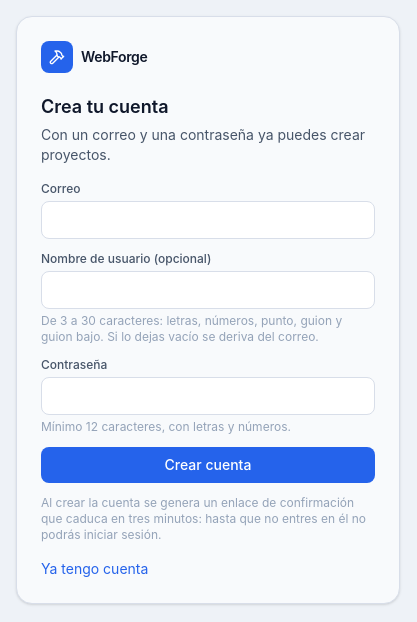
Test: RegisterPage › crea la cuenta, no abre sesión y pide verificar el correo
Expected: the password field labelled "Contraseña" is shown, [41,377,375,415]
Type "ana@dominio.dev" into the field labelled "Correo" at (208,220), box [41,201,375,239]
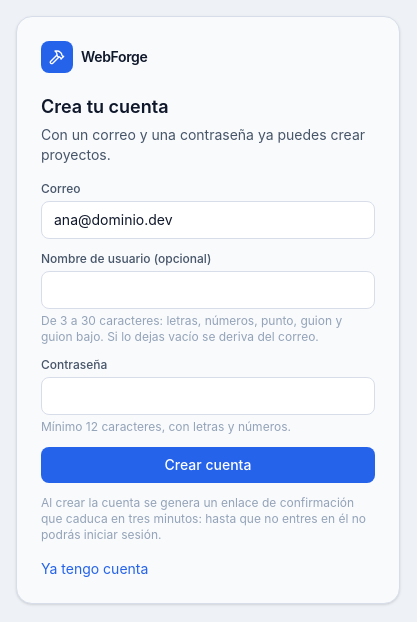
Type "S3creta-fuerte" into the password field labelled "Contraseña" at (208,396), box [41,377,375,415]
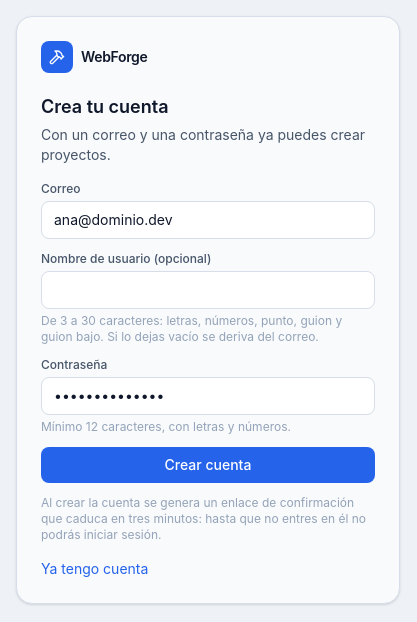
Submit the form named "Crea tu cuenta", box [41,181,375,543]
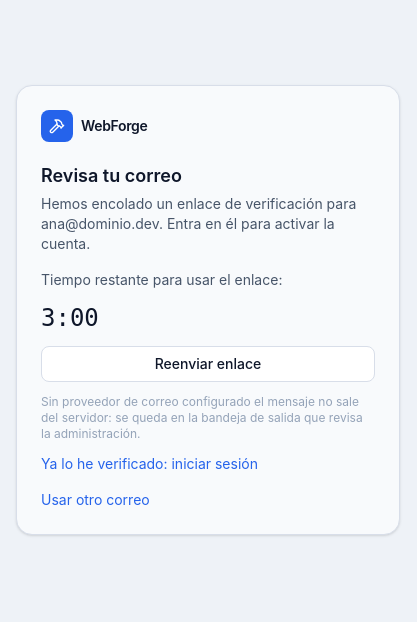
Result: the text with test id "cuenta-verificacion" reads "3:00" at [41,304,99,332]
